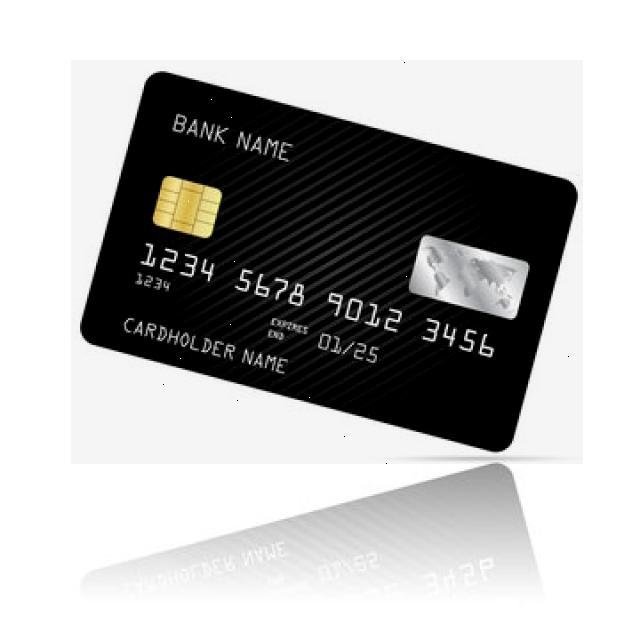payment_card: (78, 69, 579, 454)
